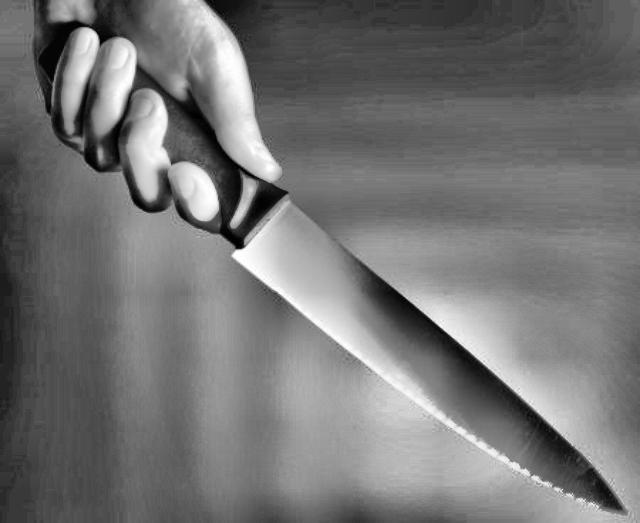knife: (119, 84, 632, 514)
